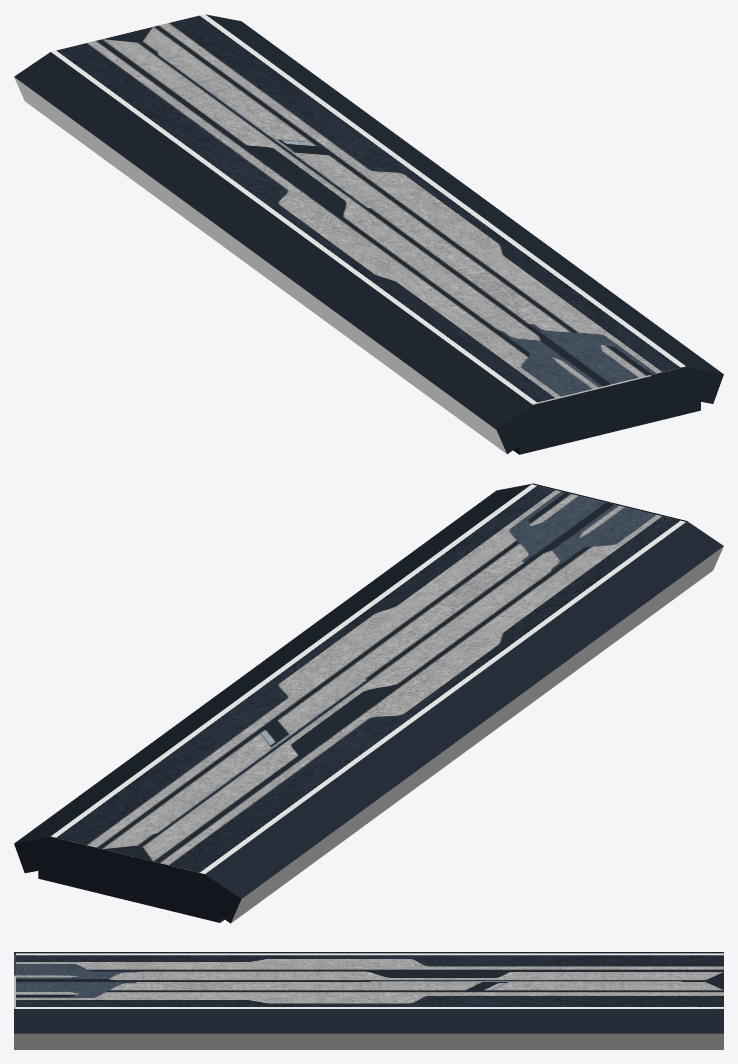
The model's file is portal_bridge4.obj.
3 views of the same model, one above another, from view 1: azimuth 30°, elevation 25°; view 2: azimuth 150°, elevation 25°; view 3: azimuth 270°, elevation 25° (orthographic). The views are drawn at different scales.
Visible parts, largest first — view 1: octagon, octagon.000, octagon.001, octagon.002; view 2: octagon, octagon.000, octagon.001, octagon.002; view 3: octagon, octagon.001, octagon.000.
Boxes of the visible parts, x1=… form: octagon: x1=50, y1=14, x2=687, y2=433; octagon.000: x1=14, y1=52, x2=542, y2=454; octagon.001: x1=206, y1=14, x2=723, y2=403; octagon.002: x1=513, y1=375, x2=700, y2=454; octagon: x1=50, y1=483, x2=687, y2=903; octagon.000: x1=196, y1=521, x2=723, y2=923; octagon.001: x1=14, y1=484, x2=531, y2=873; octagon.002: x1=38, y1=867, x2=224, y2=922; octagon: x1=14, y1=953, x2=723, y2=1009; octagon.001: x1=14, y1=1009, x2=723, y2=1049; octagon.000: x1=14, y1=952, x2=723, y2=975.
Size of the model in its own units: 0.8169 by 0.16 by 3.
